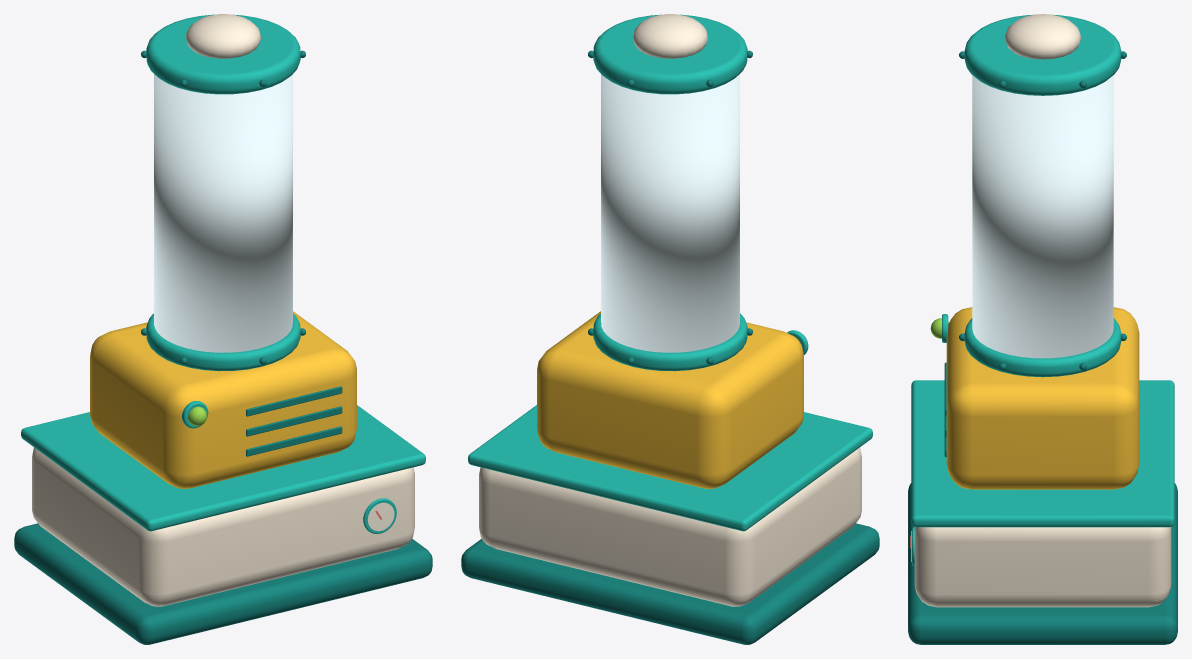
File: GenTurbine.fbx
The picture shows the model from 3 angles, left to right: view 1: azimuth 30°, elevation 25°; view 2: azimuth 150°, elevation 25°; view 3: azimuth 270°, elevation 25°; orthographic projection.
Visible parts, largest first — view 1: GenTurbine mesh; view 2: GenTurbine mesh; view 3: GenTurbine mesh.
Boxes of the visible parts, left/top/right/bottom form: GenTurbine mesh: left=14, top=14, right=432, bottom=644; GenTurbine mesh: left=461, top=14, right=879, bottom=644; GenTurbine mesh: left=908, top=14, right=1177, bottom=644.
Size of the model in its own units: 1.08 by 1.91 by 0.84.
